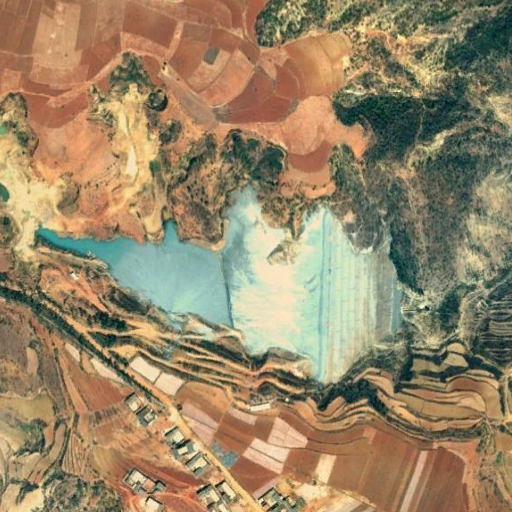tp: (37, 186, 412, 388)
